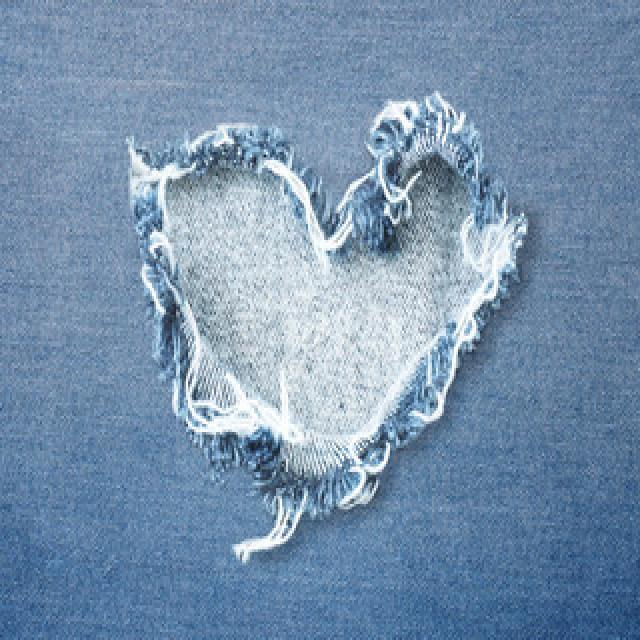Hole: (131, 93, 528, 562)
